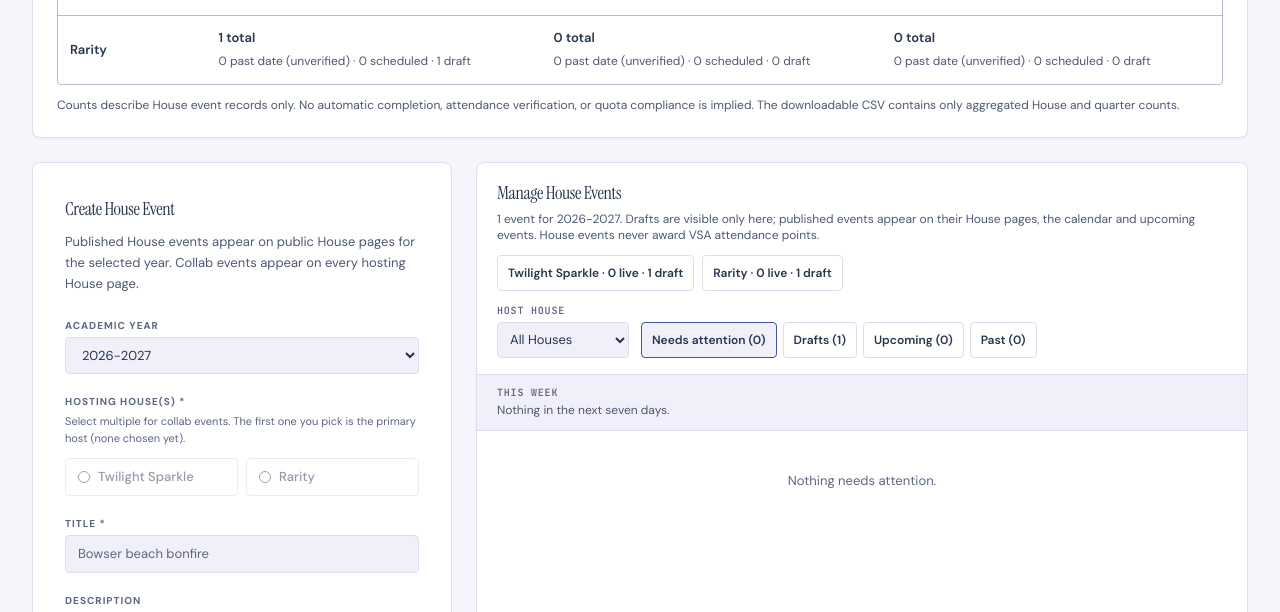
it: publishes only after confirming, keeping the host Houses and the loaded version
(page scrolled)
Click the button "Drafts (1)".
click(820, 340)  # box 783,322 -> 857,358
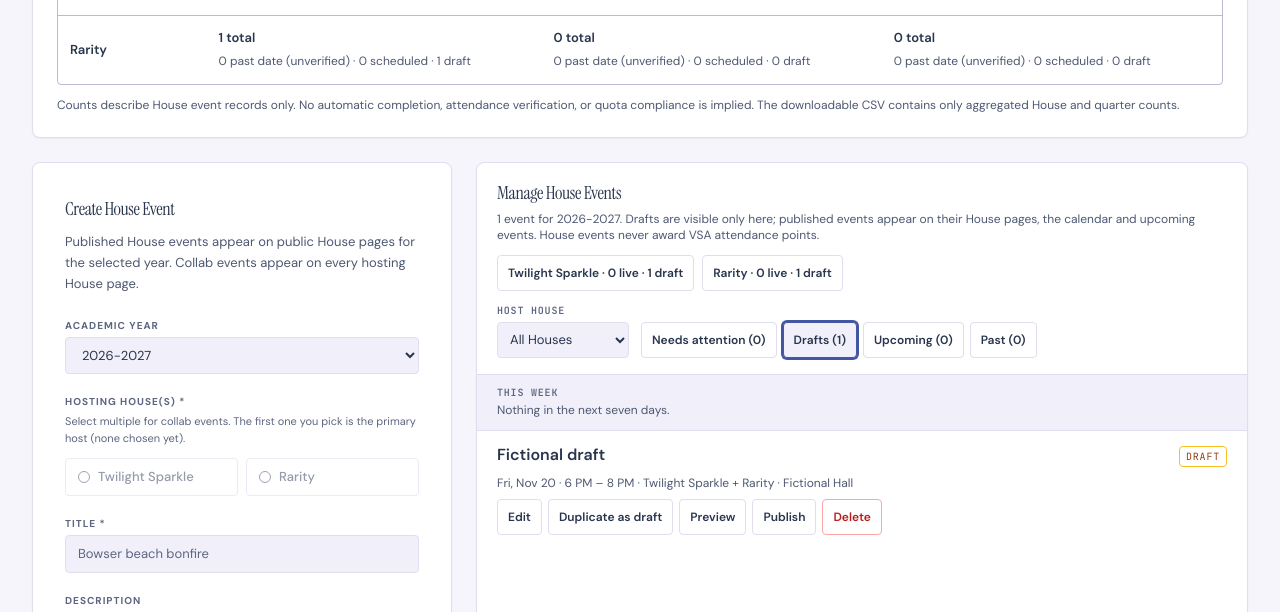
Click the button with aria-label "Publish Fictional draft".
click(784, 517)  # box 752,499 -> 816,535
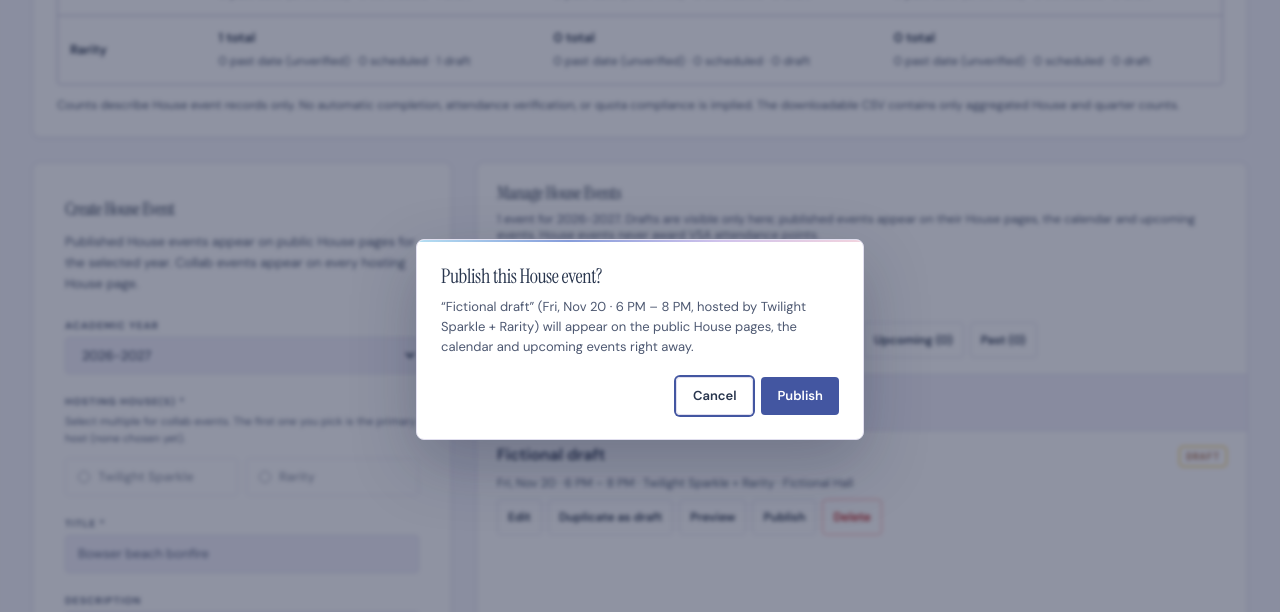
Expected: the text "Twilight Sparkle + Rarity" is shown, 441,298 -> 806,334
Click the button "Publish".
click(800, 396)  # box 762,376 -> 839,414
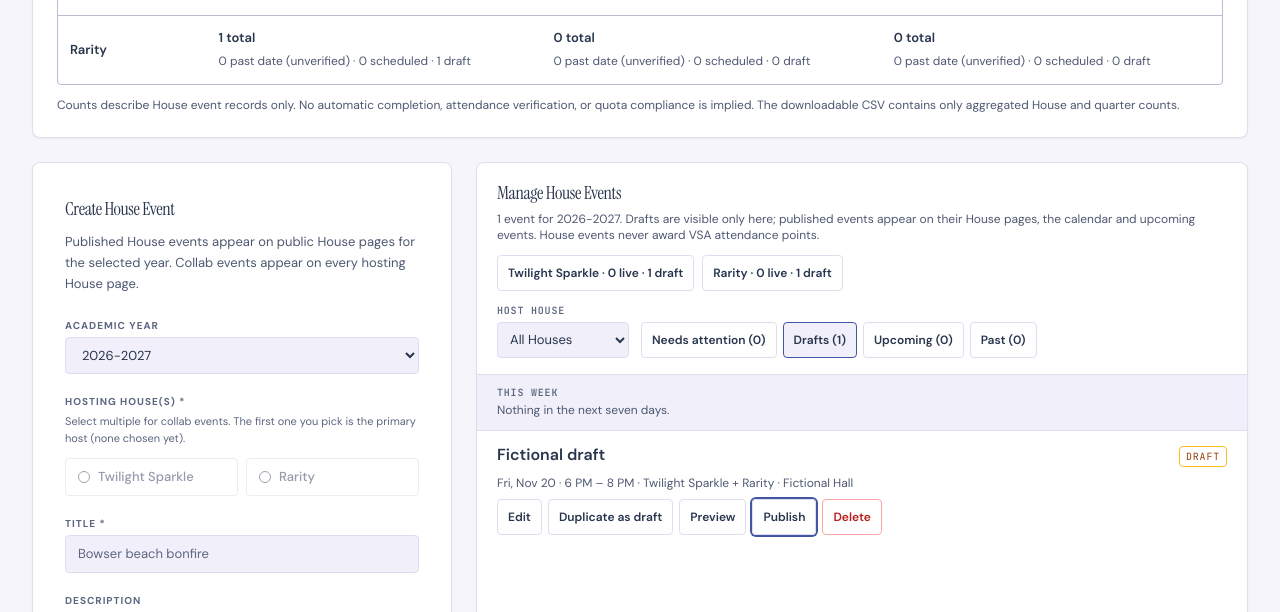
Expected: the dialog is gone
